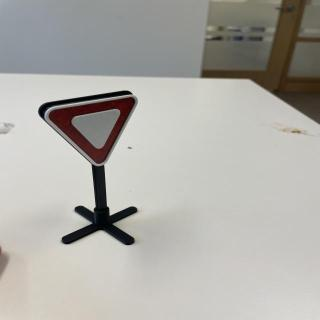duck_specialty: (37, 96, 152, 171)
